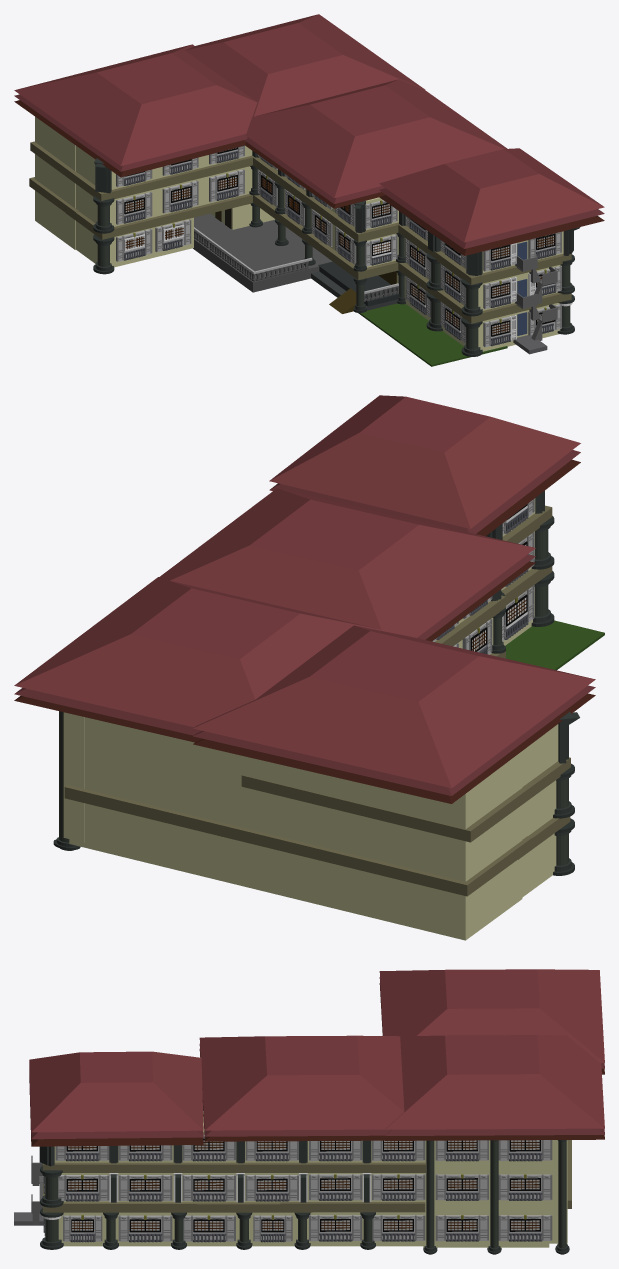
The picture shows the model from 3 angles, top to bottom: view 1: azimuth 30°, elevation 25°; view 2: azimuth 150°, elevation 25°; view 3: azimuth 270°, elevation 25°; orthographic projection. The views are drawn at different scales.
Visible parts, largest first — view 1: Cone.011, Cube.064, Cube.081, Cube.434, Cube.363, Cube.245, Cube.440, Cone.006, Cone.001, Cylinder.120, Cube.595, Cube.365 (+12 smaller); view 2: Cone.011, Cube.081, Cube.064, Cone.006, Cone.001, Cube.595, Cylinder.120, Cylinder.052, Cylinder.051, Cube.440, Cube.363; view 3: Cone.011, Cube.434, Cube.081, Cube.064, Cube.363, Cube.440, Cylinder.120, Cone.006, Cube.370, Cone.001, Cube.365, Cube.456 (+5 smaller).
Boxes of the visible parts, x1,y1,x2,y2 form: Cone.011: (14, 14, 604, 242); Cube.064: (29, 141, 571, 323); Cube.081: (35, 117, 563, 351); Cube.434: (116, 147, 561, 347); Cube.363: (116, 145, 561, 346); Cube.245: (193, 213, 332, 292); Cube.440: (124, 150, 555, 346); Cone.006: (14, 94, 604, 248); Cone.001: (14, 100, 604, 255); Cylinder.120: (97, 170, 570, 349); Cube.595: (358, 303, 507, 366); Cube.365: (124, 147, 555, 336); Cone.011: (14, 395, 595, 788); Cube.081: (63, 498, 558, 940); Cube.064: (64, 505, 570, 896); Cone.006: (14, 450, 595, 795); Cone.001: (14, 459, 595, 803); Cube.595: (505, 620, 604, 670); Cylinder.120: (59, 529, 568, 865); Cylinder.052: (53, 516, 574, 875); Cylinder.051: (56, 526, 571, 871); Cube.440: (436, 507, 528, 653); Cube.363: (432, 499, 534, 654); Cone.011: (29, 969, 604, 1132); Cube.434: (56, 1135, 551, 1241); Cube.081: (54, 1111, 567, 1247); Cube.064: (43, 1140, 571, 1212); Cube.363: (44, 1140, 552, 1240); Cube.440: (43, 1153, 542, 1242); Cylinder.120: (45, 1141, 566, 1254); Cone.006: (29, 977, 604, 1139); Cube.370: (68, 1140, 539, 1230); Cone.001: (29, 983, 604, 1146); Cube.365: (44, 1138, 540, 1232); Cube.456: (39, 1140, 369, 1202).
Size of the model in its own units: 4527 by 2058 by 6750.
